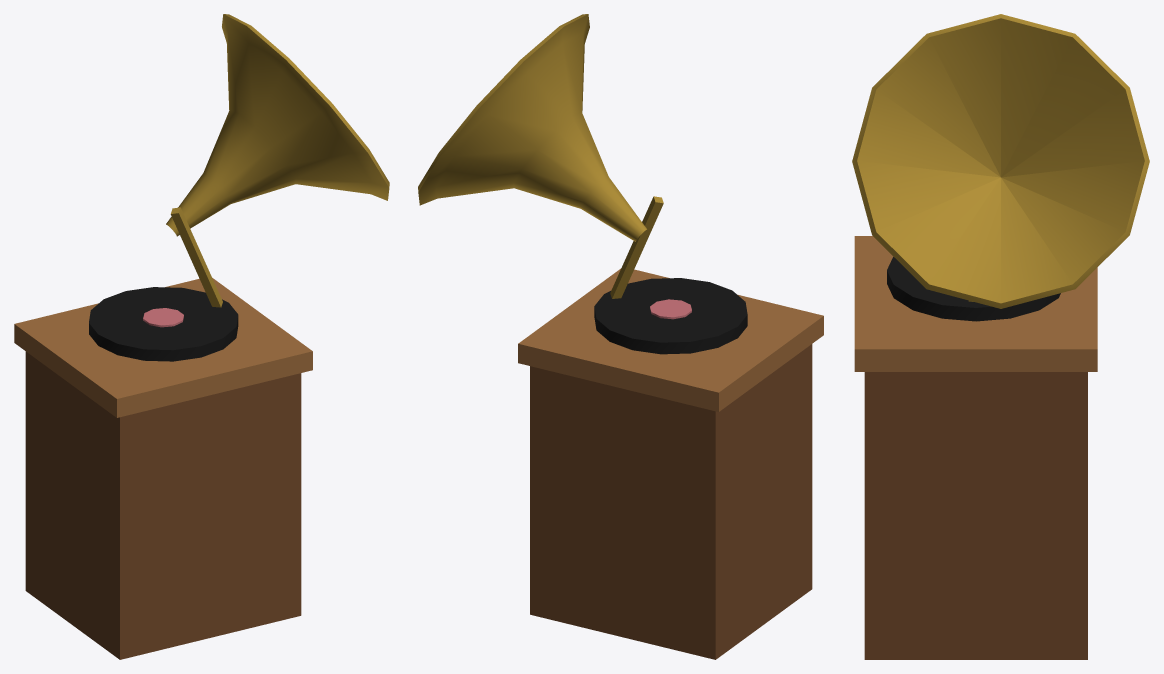
Rendered from gramophone.glb.
The picture shows the model from 3 angles, left to right: view 1: azimuth 30°, elevation 25°; view 2: azimuth 150°, elevation 25°; view 3: azimuth 270°, elevation 25°; orthographic projection. The views are drawn at different scales.
Visible parts, largest first — view 1: furniture-gramophone; view 2: furniture-gramophone; view 3: furniture-gramophone.
Boxes of the visible parts, x1,y1,x2,y2 form: furniture-gramophone: (14,14,389,659); furniture-gramophone: (418,14,823,659); furniture-gramophone: (852,14,1149,659).
Bounding box in the file's own units: 0.8554 × 1.44 × 0.6001.
